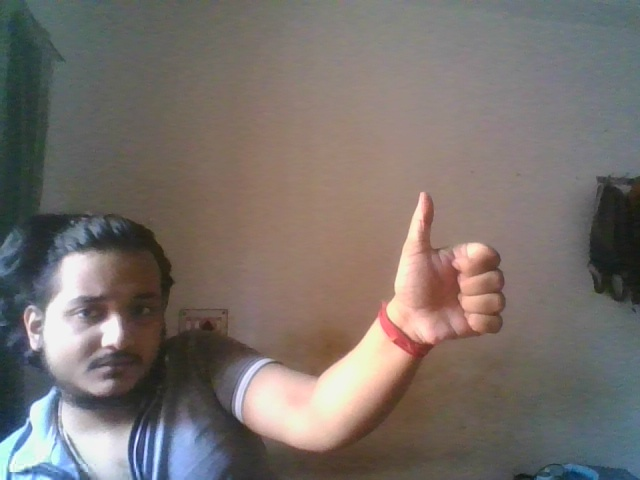ThumbsUp: (391, 190, 506, 342)
